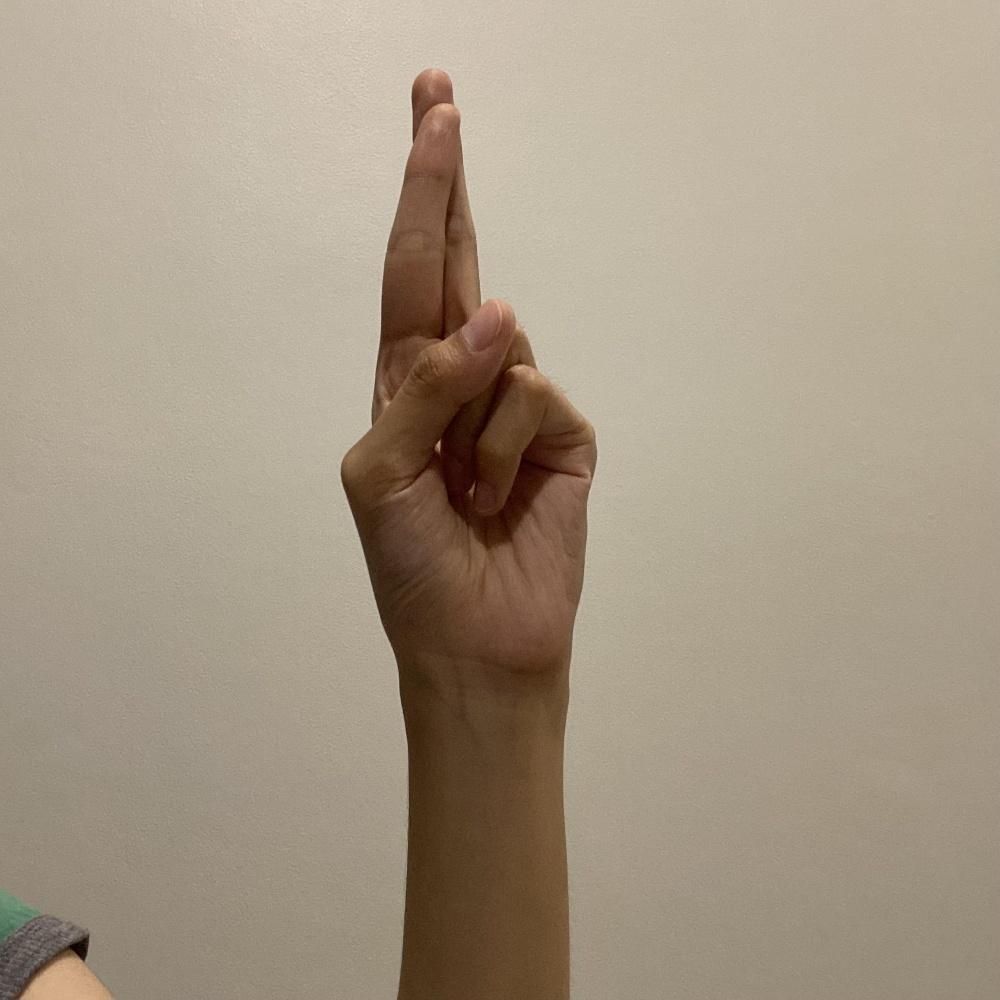r: (336, 62, 605, 698)
